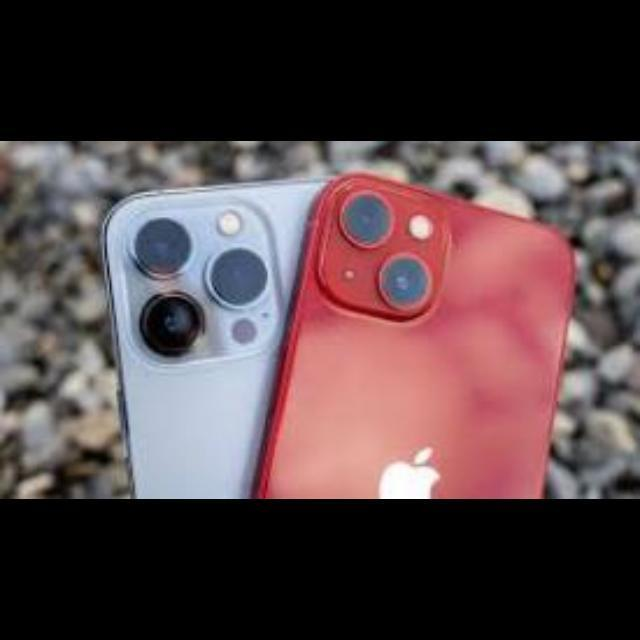PhoneUse: (277, 176, 588, 499), (103, 178, 335, 500)
